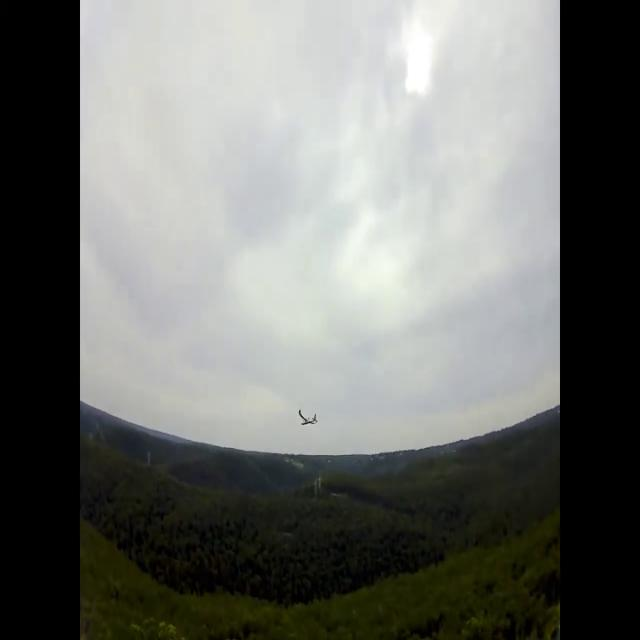iha: (298, 409, 319, 428)
